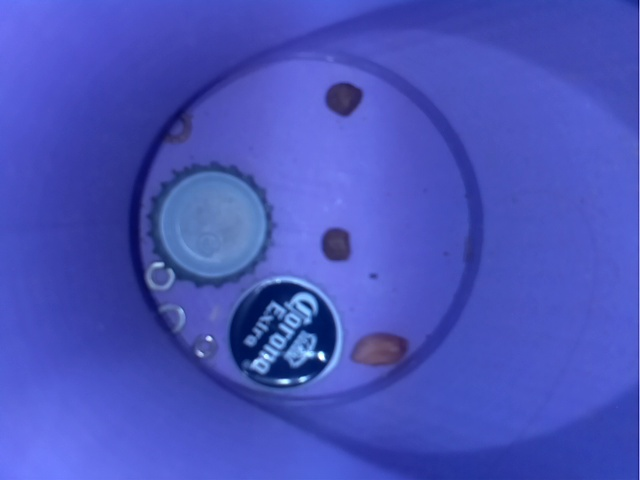capsule: (137, 147, 281, 296), (217, 268, 345, 394)
croquette: (346, 324, 415, 381), (315, 69, 372, 122), (305, 219, 363, 269)
